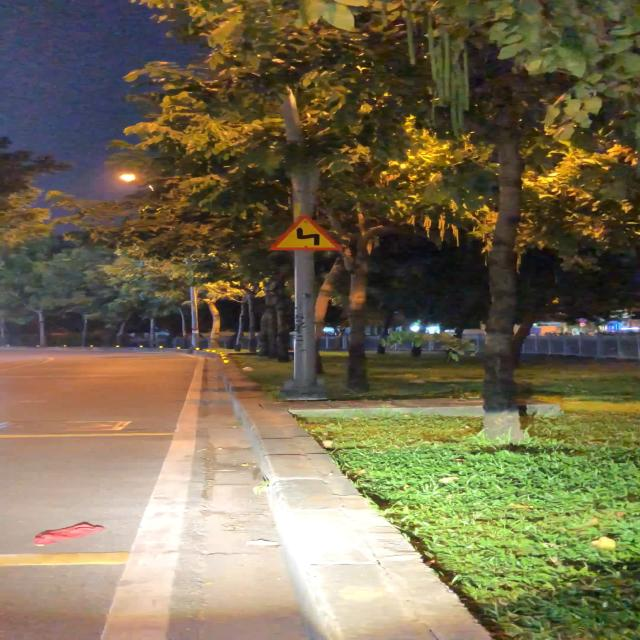Bien bao nhieu cho ngoat nguy hiem lien tiep: (265, 213, 348, 252)
